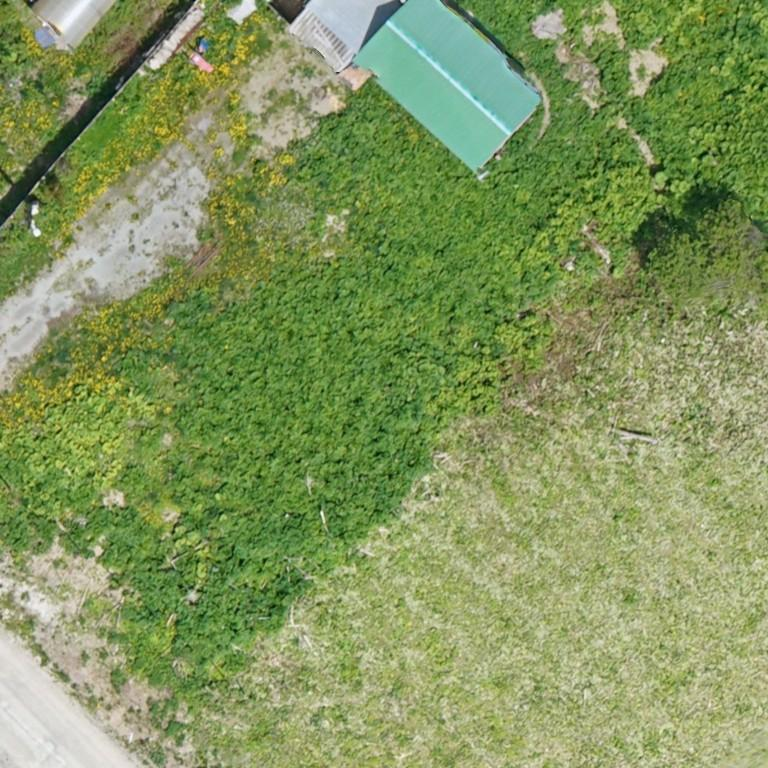hogweed: (75, 0, 640, 658), (625, 53, 733, 158), (596, 47, 634, 98)
